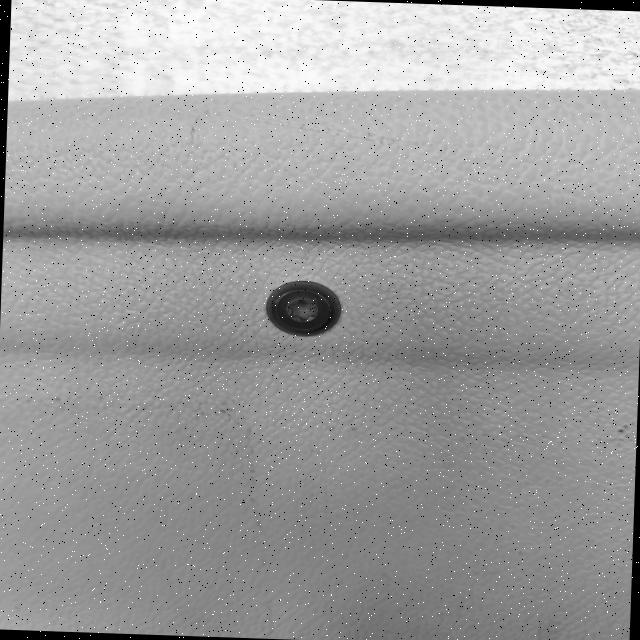Torx: (276, 293, 324, 326)
